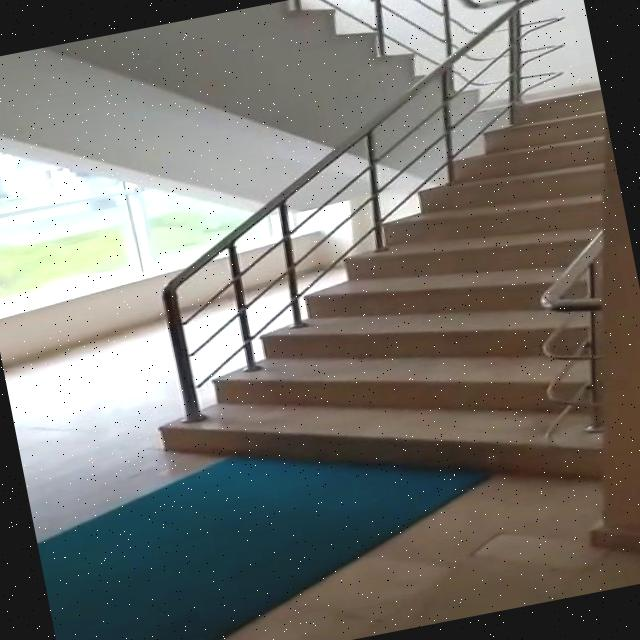stairs: (109, 86, 640, 557)
